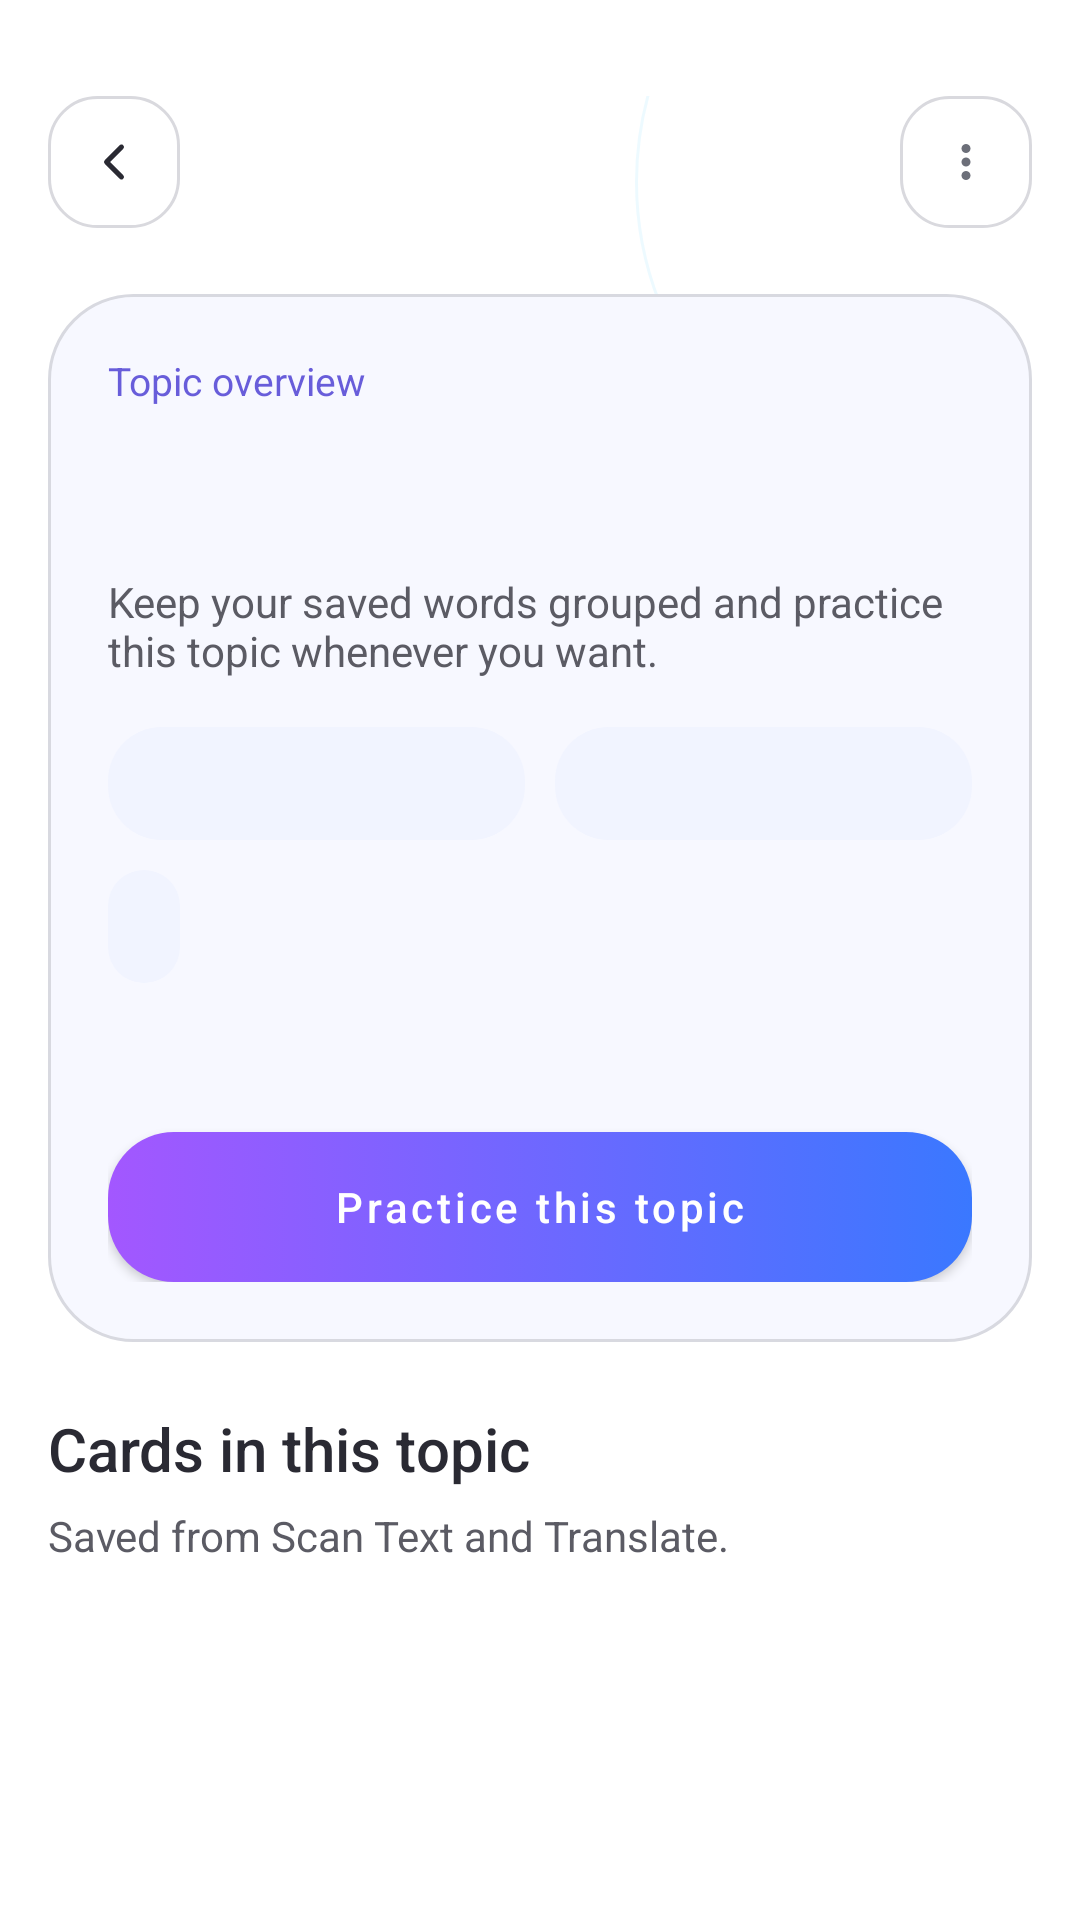

Icon bounding boxes for this 1080px x 1920px phone screenshot, format (x1, y1, x2, y2):
auth arrow back: (104, 144, 124, 180)
library more: (961, 144, 971, 180)
